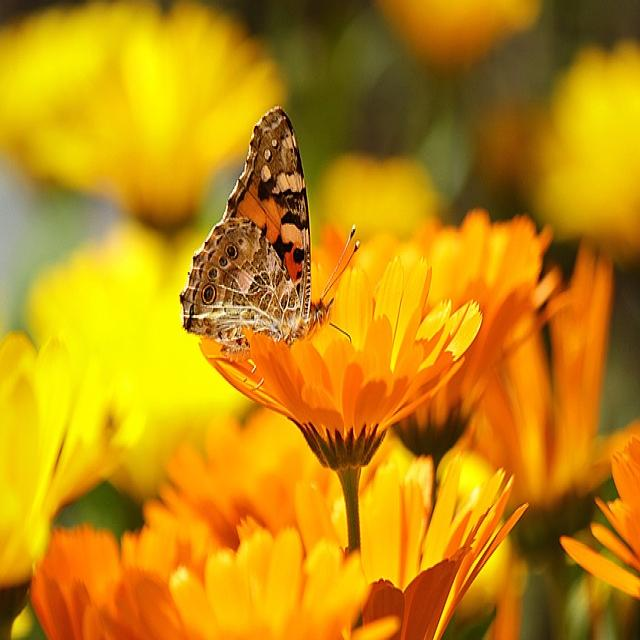butterfly: (181, 107, 311, 351)
